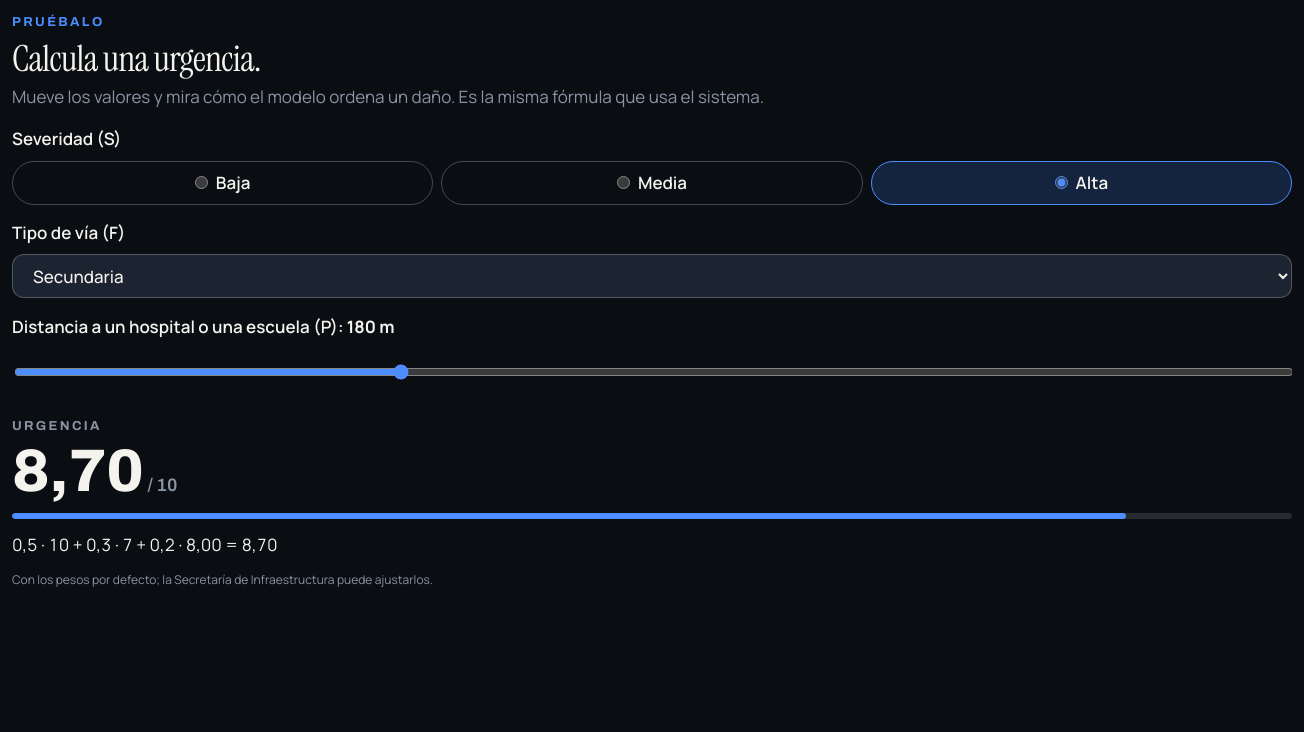
Test: Calculator › recalcula al cambiar severidad, vía y distancia
This screenshot has width=1304, height=732.
Click the radio button labelled "Media" at (623, 183), box [617,176,630,189]
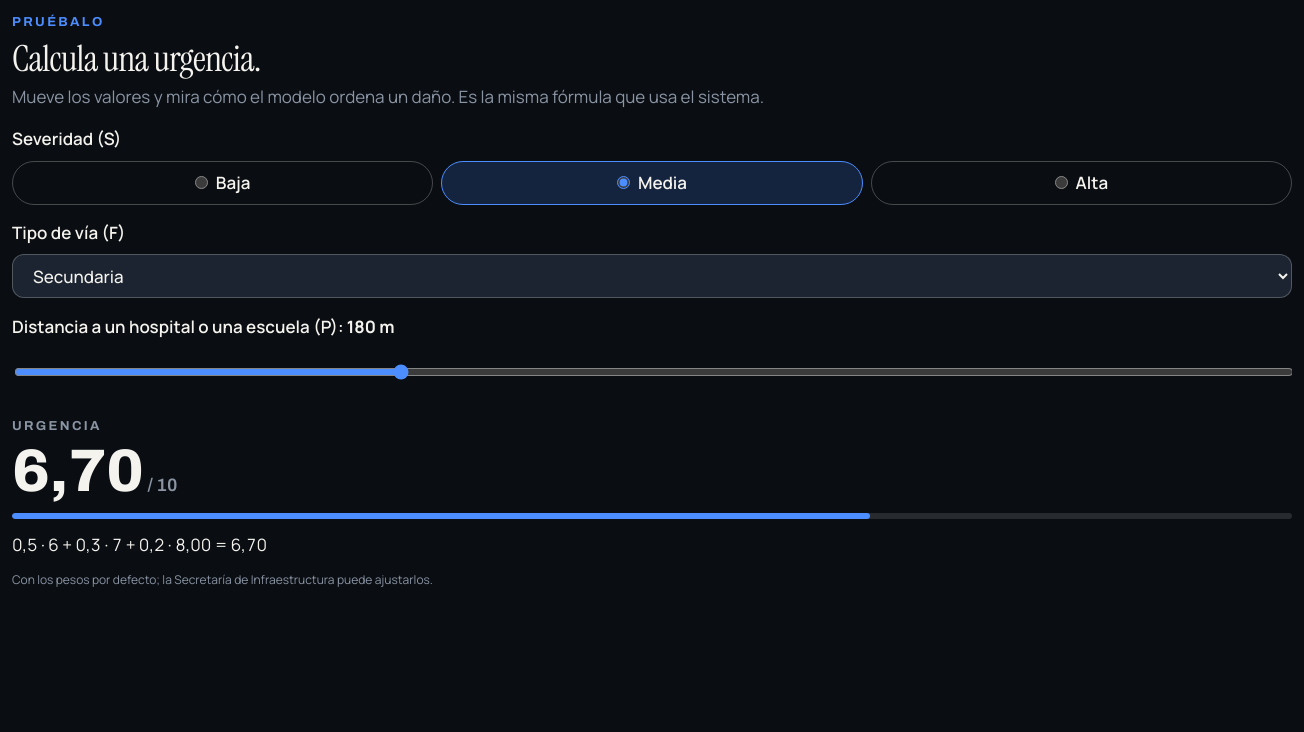
Select "Principal" in the dropdown at (652, 276), box [12,254,1292,298]
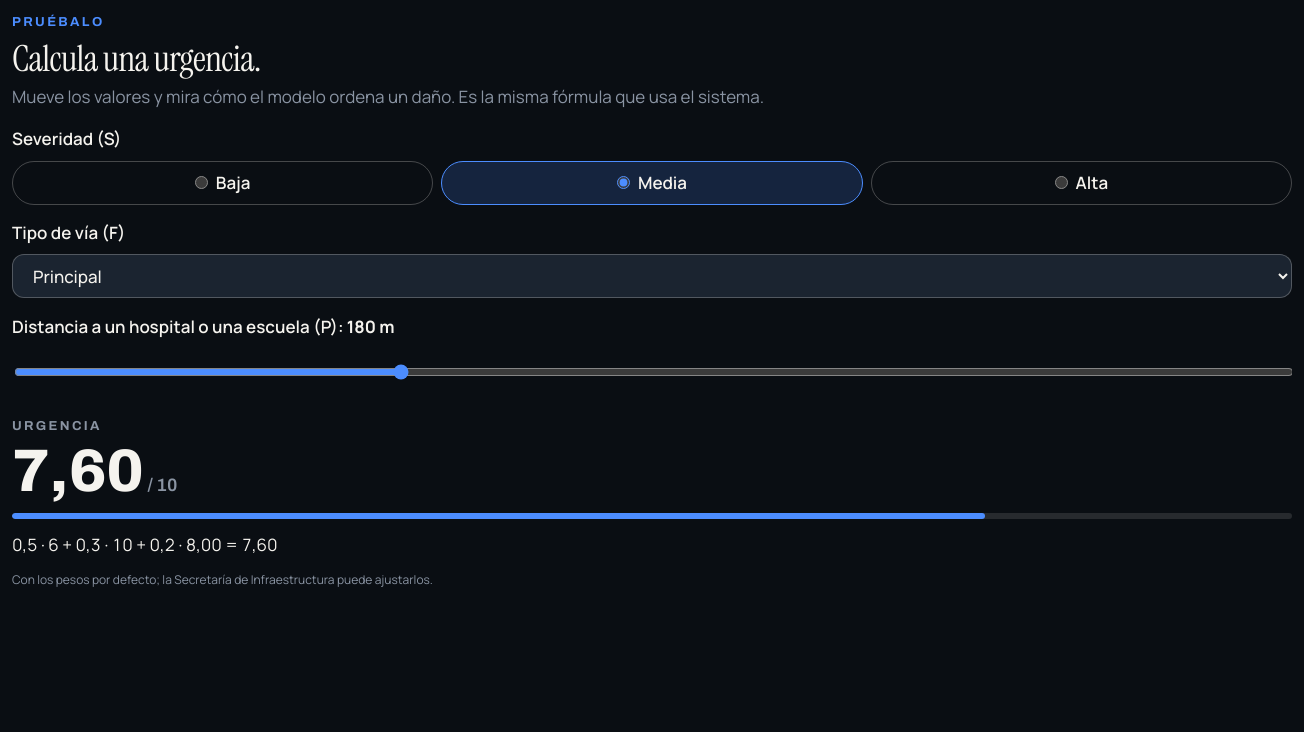
Set the slider to "100" at (232, 372), box [14,350,1292,394]
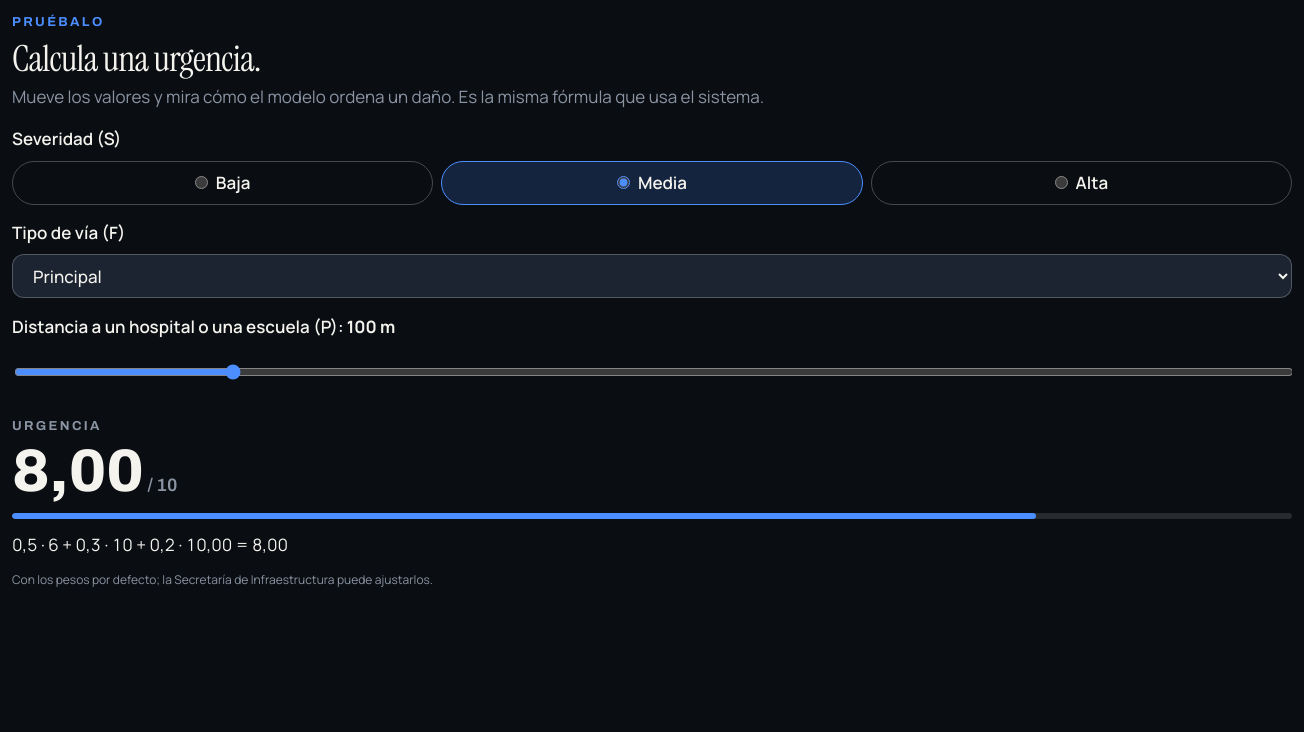
Expected: the text "8,00" is shown, [12,438,144,504]
